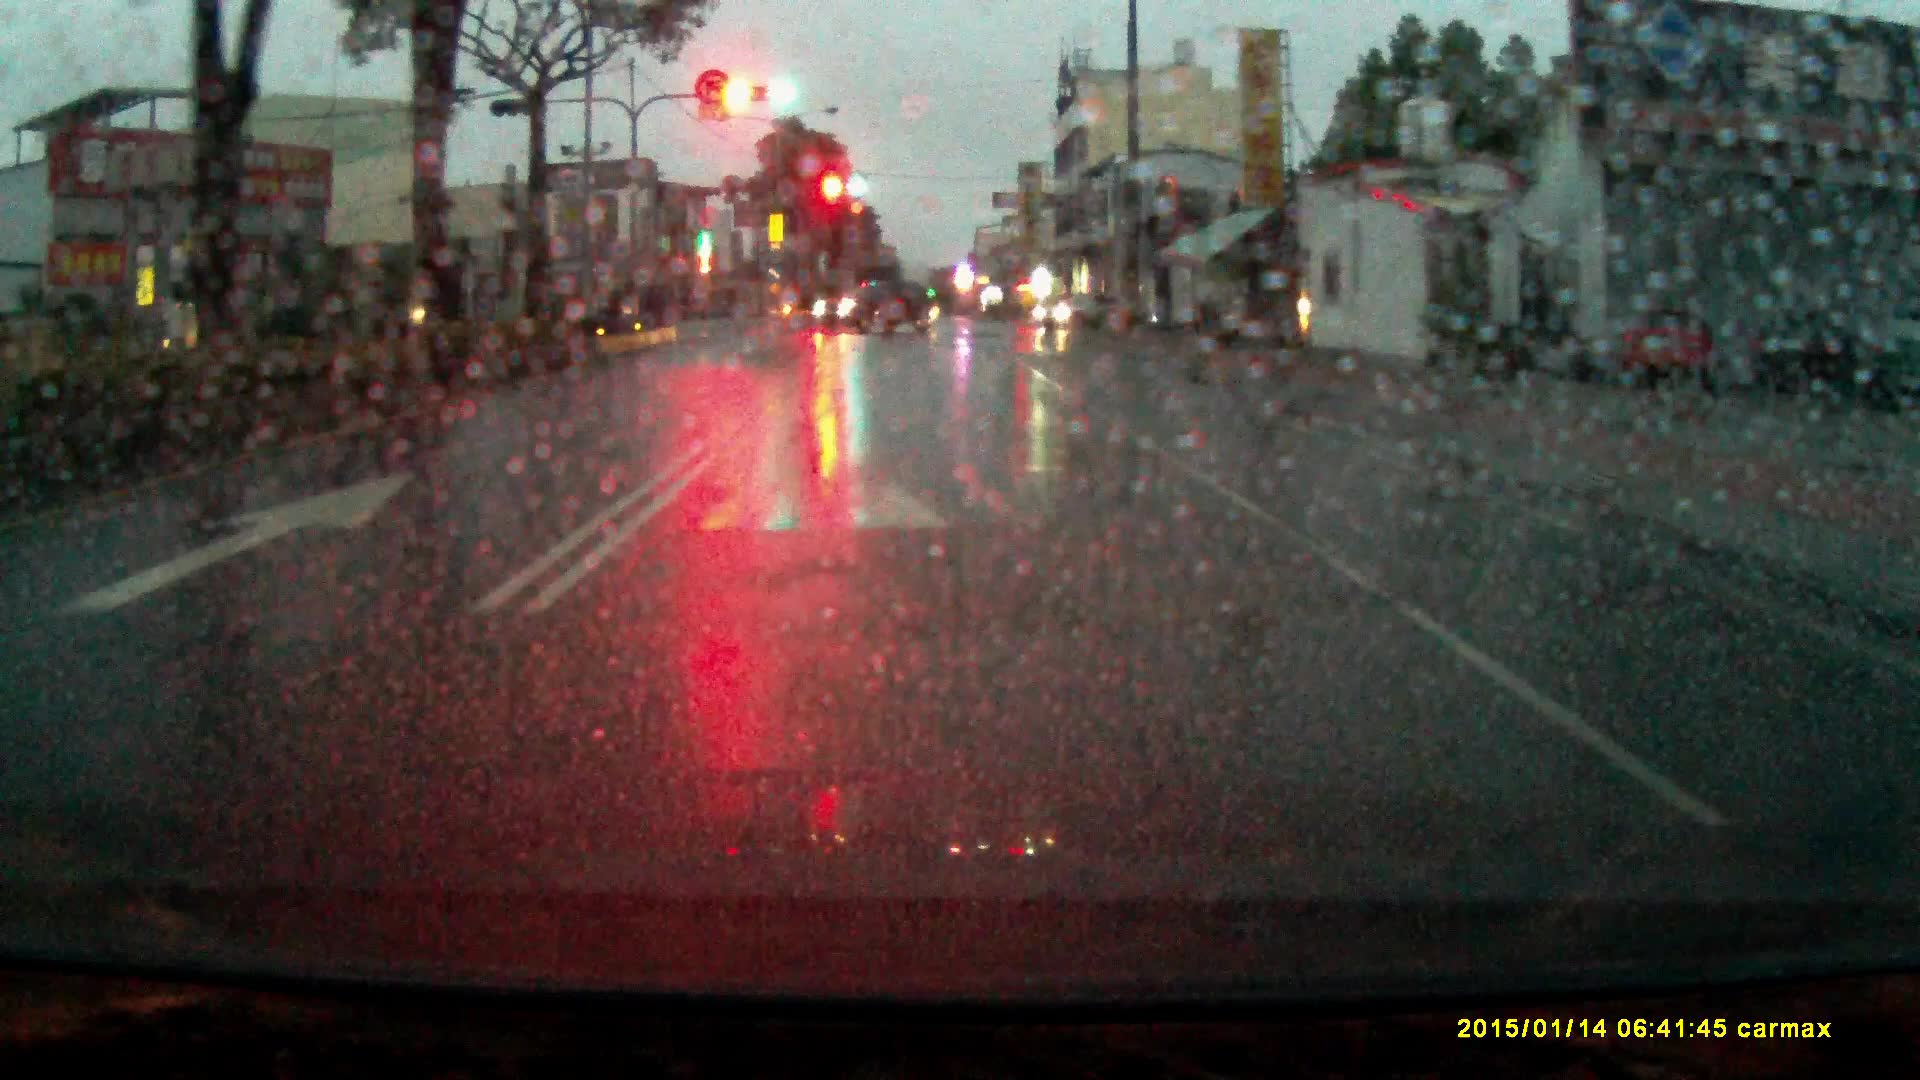vehicle: (811, 280, 943, 338), (1035, 289, 1134, 342)
